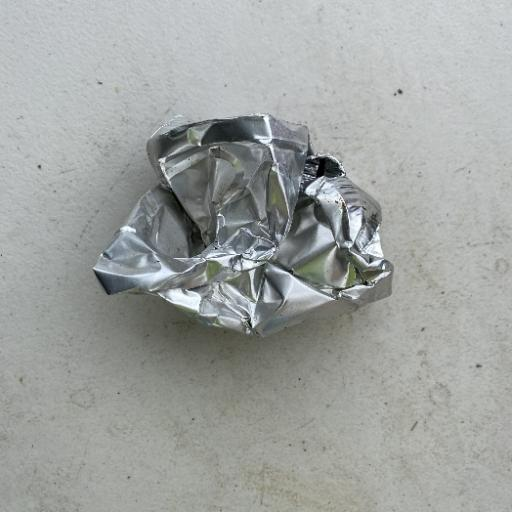Metal: (91, 110, 395, 339)
